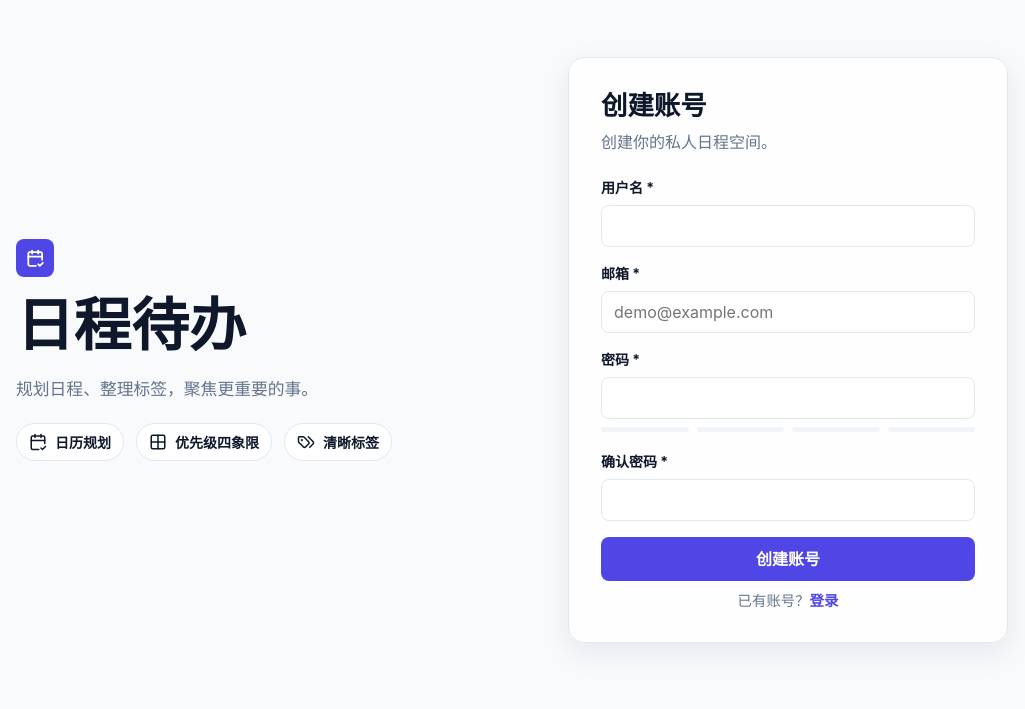
Test: frontend app › validates the register form
The image size is (1025, 709).
Click the button "创建账号": [788, 559] box [601,537,975,581]
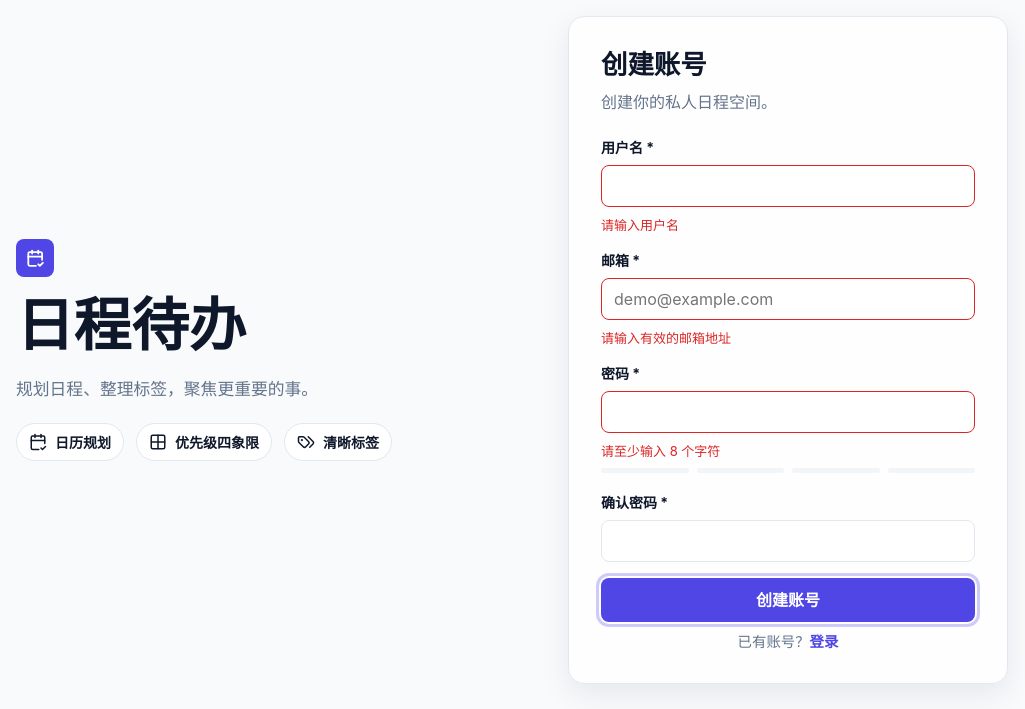
Expected: the text "请输入用户名" is shown, [601,217,679,233]
Expected: the text "请输入有效的邮箱地址" is shown, [601,330,731,346]
Expected: the text "请至少输入 8 个字符" is shown, [601,443,720,459]
